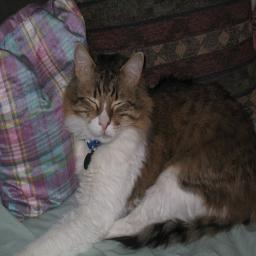catnose: (99, 116, 111, 130)
